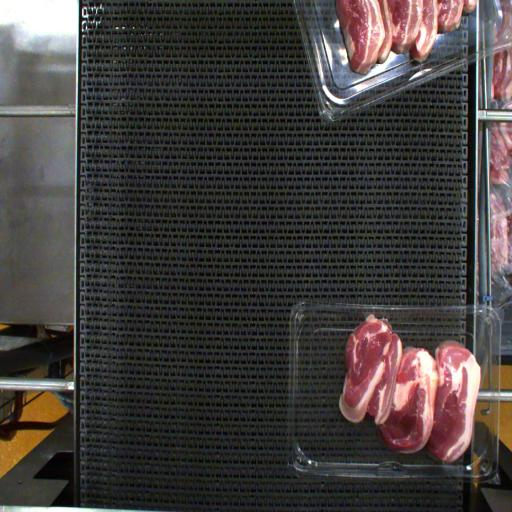packaging-error: (361, 302, 390, 324)
